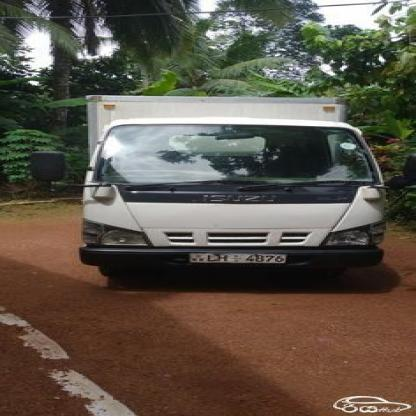Lorry front: (71, 90, 395, 282)
number plate: (177, 250, 297, 266)
